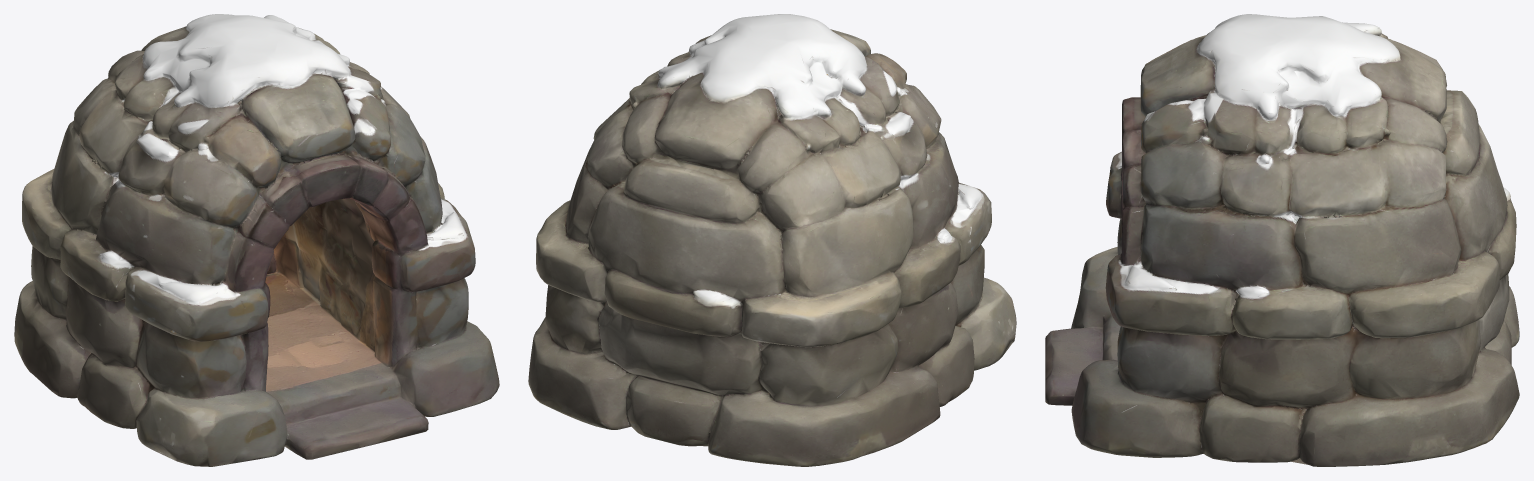
File: kiln.glb
3 views of the same model, side by side, from view 1: azimuth 30°, elevation 25°; view 2: azimuth 150°, elevation 25°; view 3: azimuth 270°, elevation 25° (orthographic). The views are drawn at different scales.
Parts seen in each view (by area): view 1: Mesh_0; view 2: Mesh_0; view 3: Mesh_0.
Part boxes in pixels (x1,y1,x2,y2): Mesh_0: (14, 14, 499, 466); Mesh_0: (528, 14, 1016, 466); Mesh_0: (1045, 14, 1519, 466).
Size of the model in its own units: 1.78 by 1.52 by 1.9.
1 material, 1 textured.
